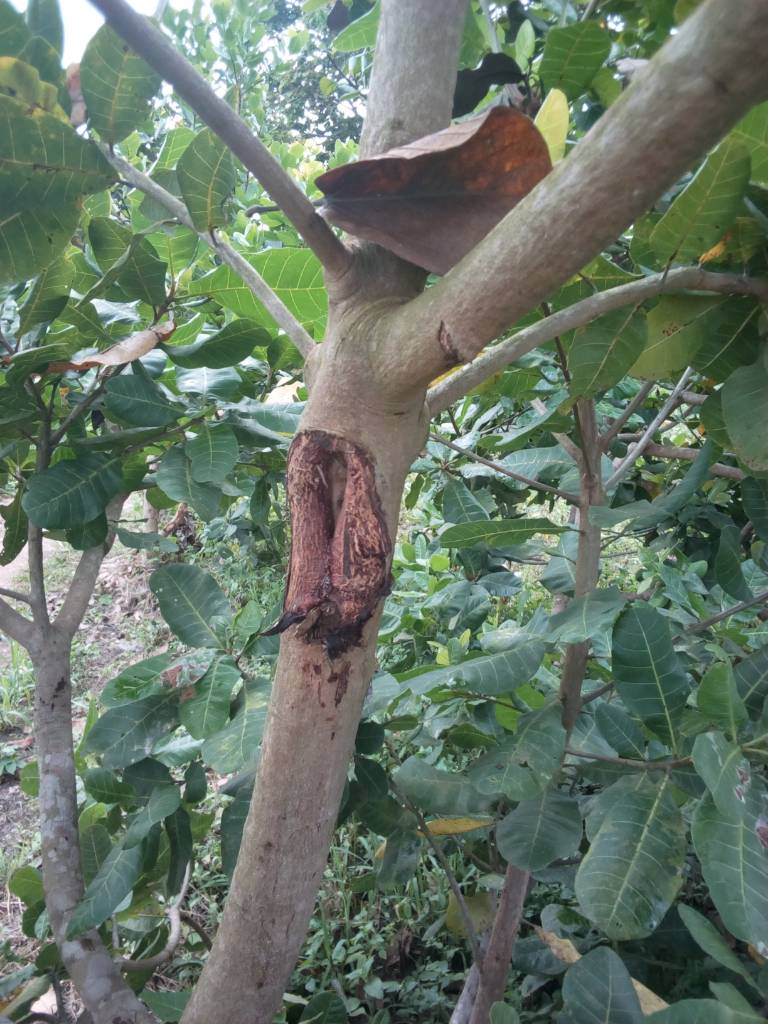Anthracnose: (572, 778, 686, 939), (93, 642, 241, 744), (1, 99, 122, 211)
